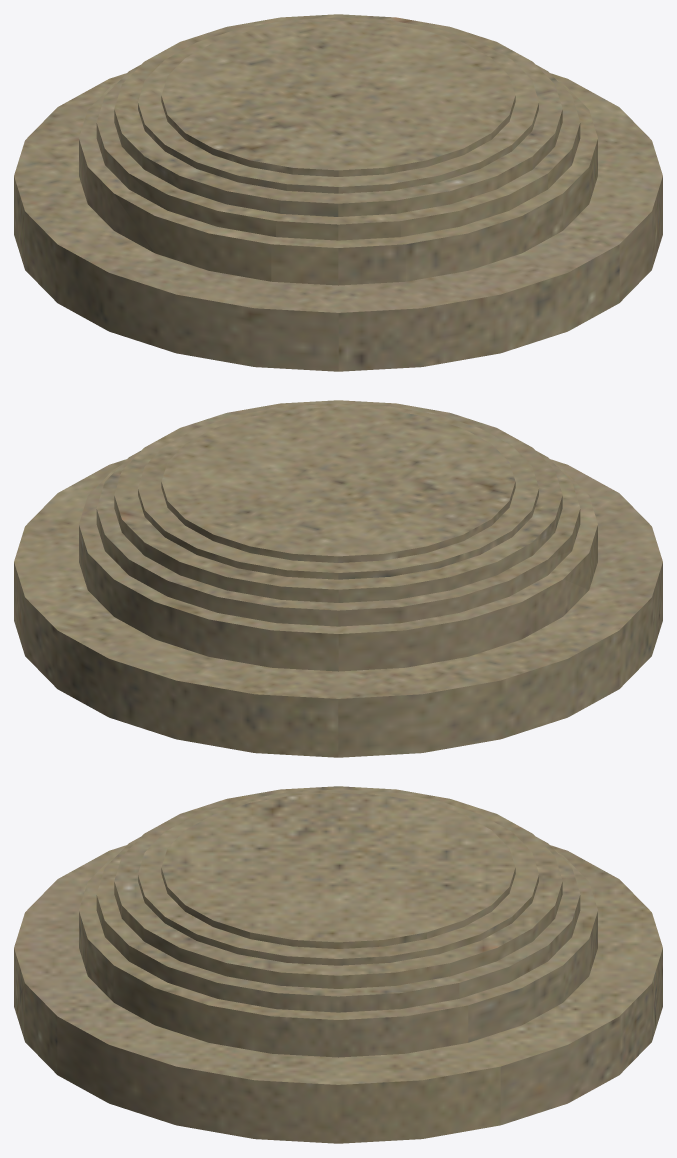
File: claypigeon.fbx
The picture shows the model from 3 angles, top to bottom: view 1: azimuth 30°, elevation 25°; view 2: azimuth 150°, elevation 25°; view 3: azimuth 270°, elevation 25°; orthographic projection.
Parts seen in each view (by area): view 1: clay target; view 2: clay target; view 3: clay target.
Boxes of the visible parts, <box> form: clay target: <box>14,14,662,371</box>; clay target: <box>14,400,662,757</box>; clay target: <box>14,786,662,1143</box>.
Size of the model in its own units: 11 by 2.6 by 11.
Materials: 1 (1 with a texture image).
